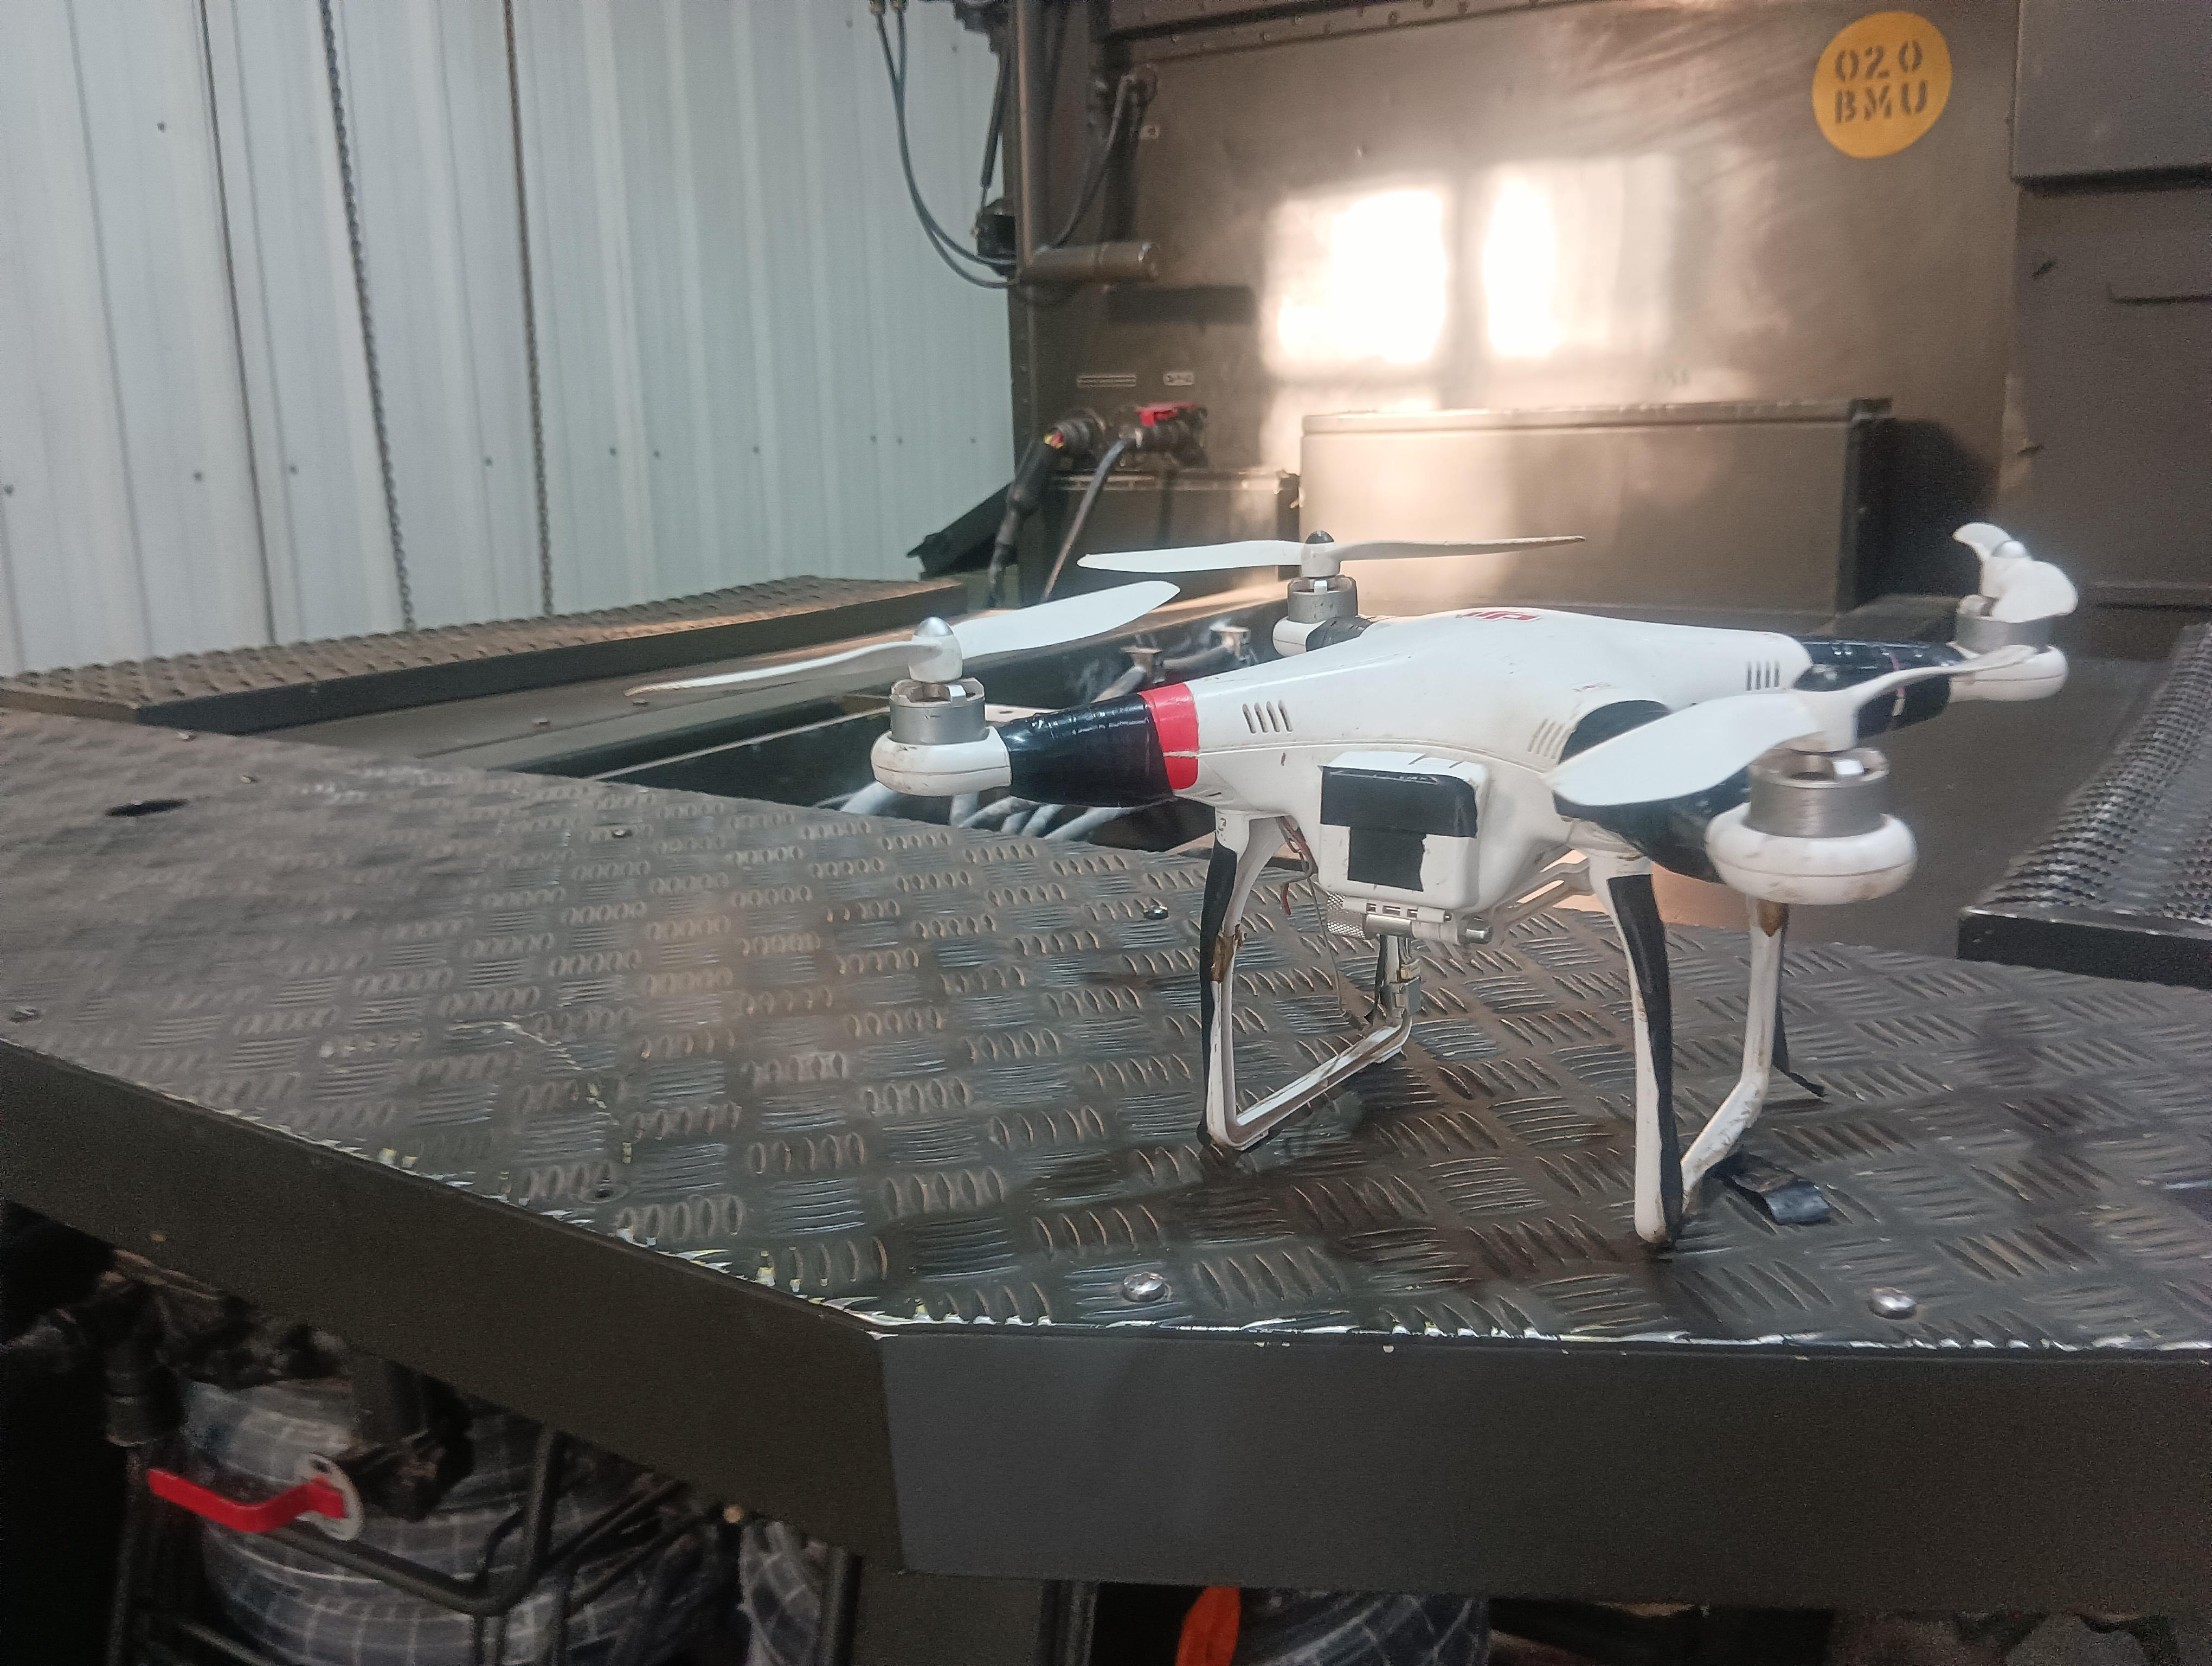drone: (864, 518, 2090, 1256)
